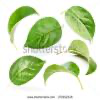Apple leaf: (7, 3, 42, 45), (63, 4, 97, 43), (24, 15, 64, 48)
